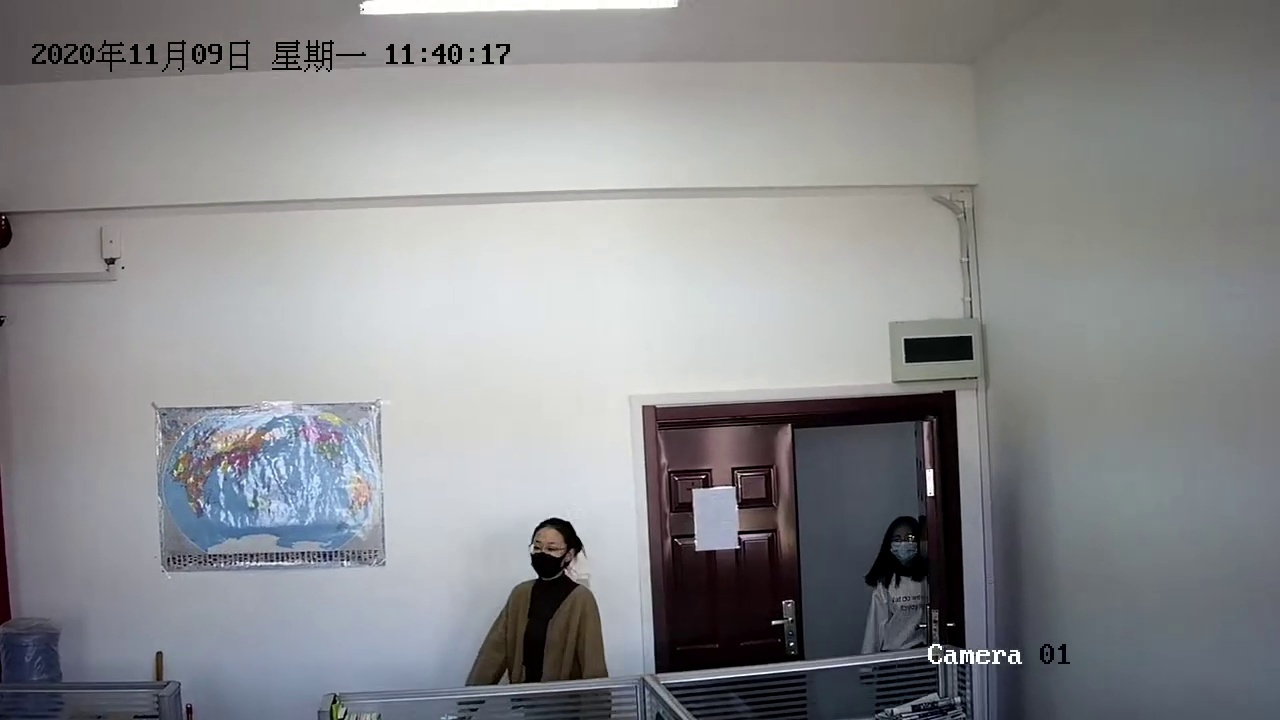mask: (528, 522, 586, 581), (880, 516, 927, 570)
